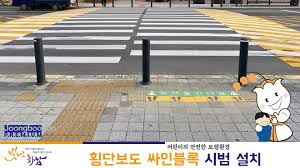guide_blocks: (48, 94, 108, 138), (51, 79, 135, 93), (15, 90, 38, 103)
